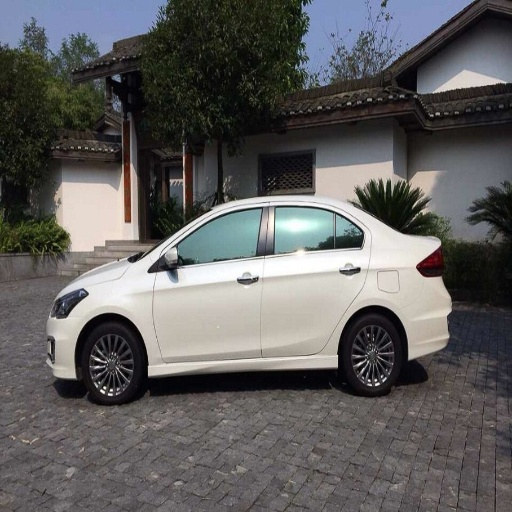back_bumper: (404, 311, 450, 358)
back_left_door: (263, 204, 370, 356)
front_left_door: (153, 204, 268, 362)
